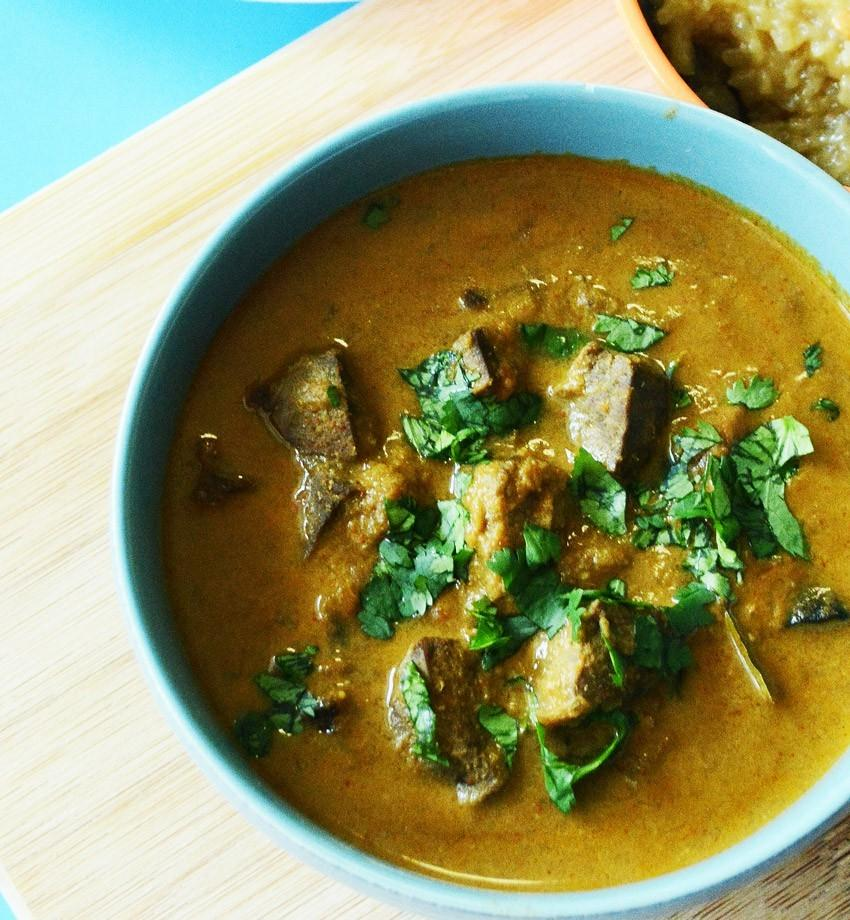MuttonCurry: (167, 152, 850, 883)
